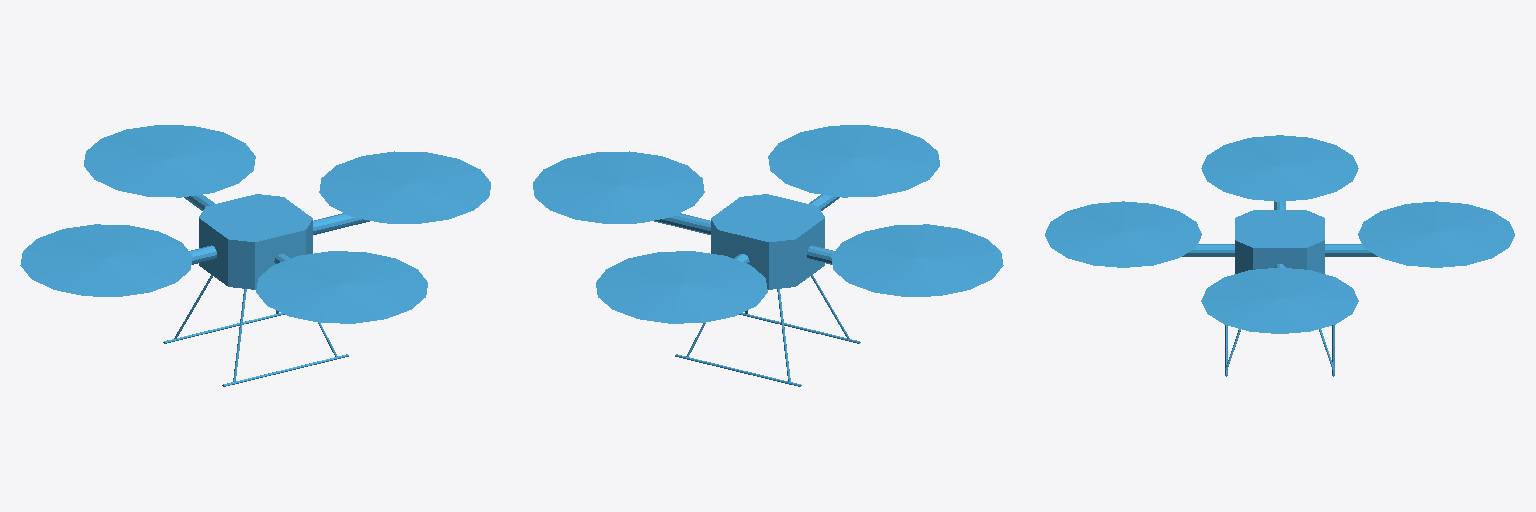
URDF robot description (quadrotor_with_pendulum):
<?xml version="1.0"?>
<robot name="quadrotor_with_pendulum">
    <link name="base">
    </link>

    <link name="quadrotor">
        <visual>
            <geometry>
                <mesh filename="./meshes/quad.obj" scale="3.0 3.0 3.0"/>
                <!-- <box size="0.1 0.1 0.1"/> -->
            </geometry>
        </visual>

        <inertial>
            <origin xyz="0.0 0.0 0.0" rpy="0.0 0.0 0.0"/>
            <mass value="0.6"/>
             <inertia ixx="0.38" ixy="0" ixz="0" iyy="0.38" iyz="0" izz="0.38"/>
        </inertial>
    </link>
    <joint name="connect_quadrotor" type="fixed">
        <parent link="base"/>
        <child link="quadrotor"/>
    </joint>

    <!-- <link name="bar_tip">
        <inertial>
            <mass value="0.025" />
            <inertia ixx="5.8083e-4" ixy="0" ixz="0" iyy="3.0833e-5" iyz="0" izz="5.9083e-4" />
        </inertial>  
    </link>

    <link name="bar">
        <inertial>
            <mass value="0.025" />
            <inertia ixx="5.8083e-4" ixy="0" ixz="0" iyy="3.0833e-5" iyz="0" izz="5.9083e-4" />
            <origin xyz="0.0 0.0 -0.2"/>
        </inertial> 
        <visual>
            <geometry>
                <cylinder radius="0.01" length="0.4"/>
            </geometry>
            <origin xyz="0.0 0.0 -0.2"/>
        </visual>
    </link>

    <joint name="x_revolution" type="continuous">
        <parent link="quadrotor"/>
        <child link="bar_tip"/>
        <axis xyz="1.0 0.0 0.0"/>
    </joint>

     <joint name="y_revolution" type="continuous">
        <parent link="bar_tip"/>
        <child link="bar"/>
        <axis xyz="0.0 1.0 0.0"/>
    </joint>

    <link name="ball">
        <visual>
            <geometry>
                <sphere radius="0.02"/>
            </geometry>
        </visual>

        <inertial>
            <mass value="0.5"/>
            <inertia ixx="0.08" ixy="0.0" ixz="0.0" iyy="0.08" iyz="0.0" izz="0.08"/>
        </inertial>
        
    </link>
    <joint name="bar_ball" type="fixed">
        <parent link="bar"/>
        <child link="ball"/>
        <origin xyz="0.0 0.0 -0.4"/>
    </joint> -->
</robot>

--- Render facts (derived) ---
The picture shows the robot from 3 angles, left to right: view 1: azimuth 30°, elevation 25°; view 2: azimuth 150°, elevation 25°; view 3: azimuth 270°, elevation 25°; orthographic projection.
Robot: quadrotor_with_pendulum — 2 links, 1 joints (1 fixed); root link base; default pose: all joints at 0.
Visible links, largest first — view 1: quadrotor; view 2: quadrotor; view 3: quadrotor.
Boxes of the visible links, x1=… form: quadrotor: x1=20, y1=125, x2=490, y2=386; quadrotor: x1=533, y1=125, x2=1003, y2=386; quadrotor: x1=1045, y1=135, x2=1514, y2=376.
Size in the robot's own frame: 1.51 by 1.51 by 0.4248 metres.
1 mesh visuals loaded from 1 distinct referenced files (1 OBJ).